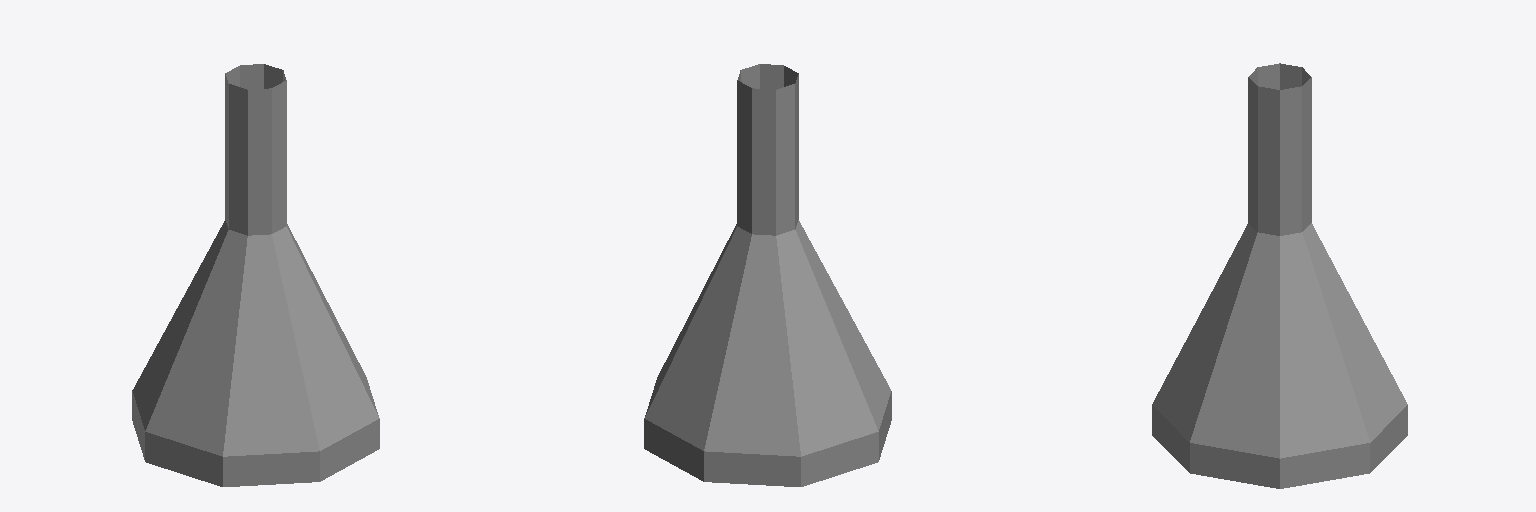
File: flask.obj
The picture shows the model from 3 angles: view 1: azimuth 30°, elevation 25°; view 2: azimuth 150°, elevation 25°; view 3: azimuth 270°, elevation 25°; orthographic projection.
Visible parts, largest first — view 1: Cube_Cube.002; view 2: Cube_Cube.002; view 3: Cube_Cube.002.
Boxes of the visible parts, box(x1,y1,x2,y2) form: Cube_Cube.002: box(132, 64, 379, 486); Cube_Cube.002: box(644, 64, 891, 486); Cube_Cube.002: box(1152, 63, 1407, 488).
Size of the model in its own units: 0.1471 by 0.2274 by 0.1471.